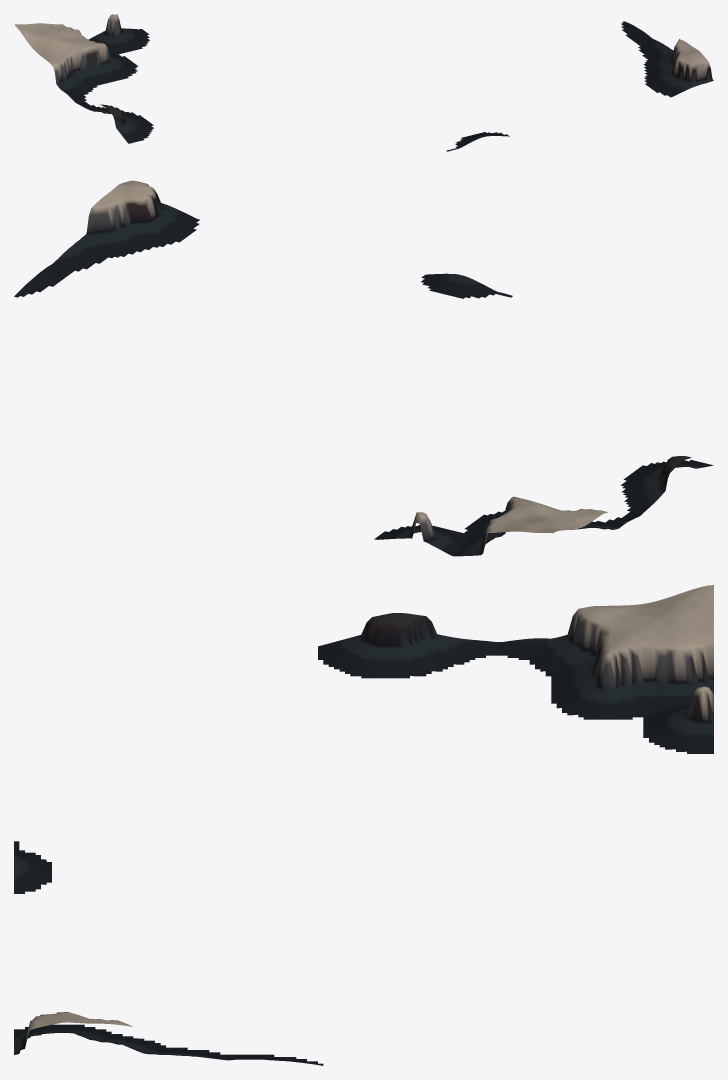
Rendered from ash_tile_x0z0.glb.
3 views of the same model, one above another, from view 1: azimuth 30°, elevation 25°; view 2: azimuth 150°, elevation 25°; view 3: azimuth 270°, elevation 25° (orthographic). The views are drawn at different scales.
Parts seen in each view (by area): view 1: geometry_0; view 2: geometry_0; view 3: geometry_0.
Part boxes in pixels (x1,y1,x2,y2): geometry_0: (14, 14, 713, 151); geometry_0: (14, 180, 713, 556); geometry_0: (14, 585, 713, 1065).
Size of the model in its own units: 1098 by 74.85 by 774.
